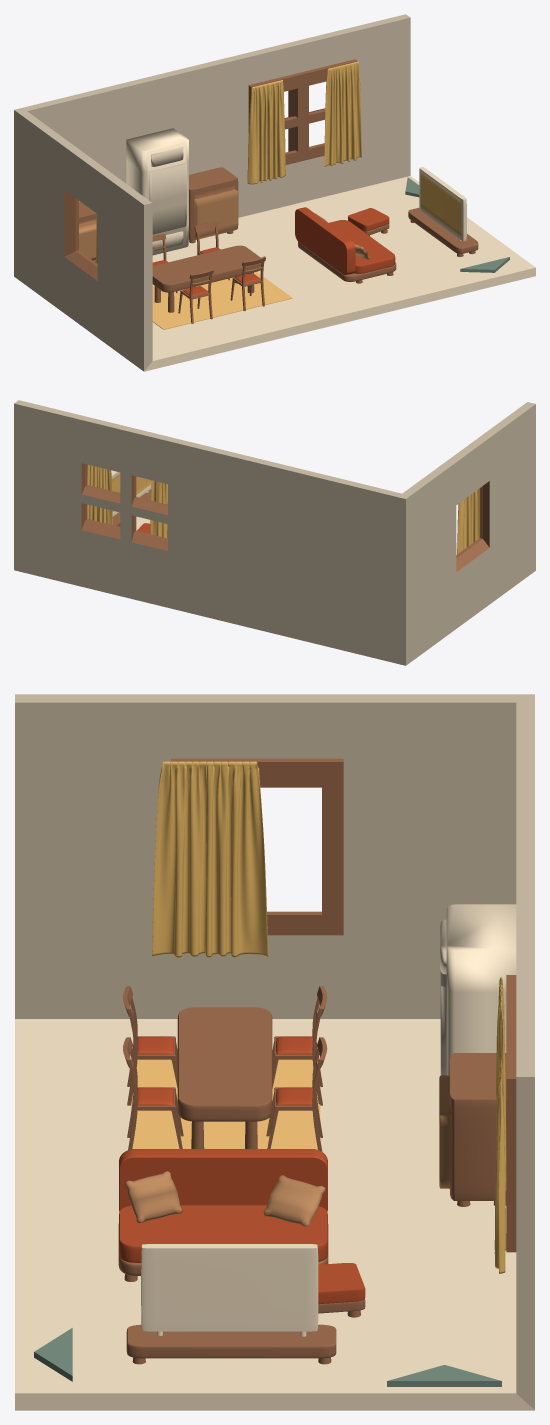
The model's file is Sala.fbx.
3 renders of one model, top to bottom at view 1: azimuth 30°, elevation 25°; view 2: azimuth 150°, elevation 25°; view 3: azimuth 270°, elevation 25°, orthographic. The views are drawn at different scales.
Parts seen in each view (by area): view 1: Pared, Nevera, Colchon, Cortina izq, Cortina der, Plano, Mesa, Meson, Chair2, Tele, Mesa tele, Meson 2 (+2 smaller); view 2: Pared, Cortina 1, Cortina der, Cortina izq, Tele; view 3: Pared, Cortina 1, Colchon, Tele, Mesa, Nevera, Meson, Chair2, Plano, Mesa tele, Almohada.001, Almohada (+5 smaller).
Boxes of the visible parts, box(x1,y1,x2,y2) form: Pared: box(14, 14, 535, 371); Nevera: box(126, 128, 188, 255); Colchon: box(295, 207, 395, 275); Cortina izq: box(247, 80, 285, 184); Cortina der: box(324, 61, 361, 166); Plano: box(152, 271, 292, 329); Mesa: box(152, 245, 261, 312); Meson: box(189, 167, 238, 243); Chair2: box(152, 221, 265, 323); Tele: box(419, 167, 466, 241); Mesa tele: box(408, 207, 478, 256); Meson 2: box(79, 201, 96, 262); Pared: box(14, 400, 535, 665); Cortina 1: box(457, 488, 479, 554); Cortina der: box(87, 464, 112, 524); Cortina izq: box(150, 480, 167, 538); Tele: box(111, 471, 151, 516); Pared: box(15, 694, 534, 1410); Cortina 1: box(152, 761, 268, 957); Colchon: box(119, 1149, 327, 1262); Tele: box(141, 1244, 318, 1336); Mesa: box(177, 1007, 272, 1148); Nevera: box(440, 904, 516, 1075); Meson: box(439, 1053, 506, 1206); Chair2: box(123, 986, 327, 1151); Plano: box(131, 1057, 320, 1149); Mesa tele: box(126, 1324, 336, 1364); Almohada.001: box(263, 1175, 325, 1226); Almohada: box(125, 1171, 182, 1222).
Bounding box in the file's own units: 1836 × 747 × 1056.
